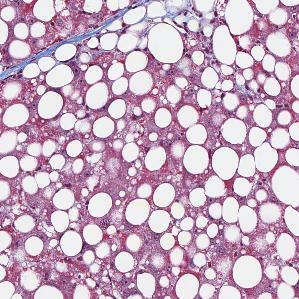fibrosis: (44, 14, 117, 50)
